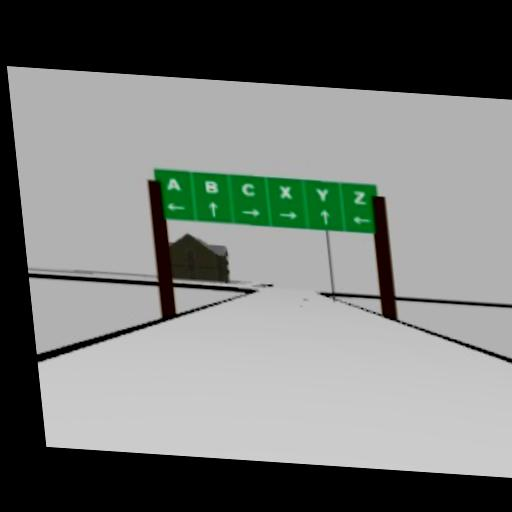A: (165, 176, 180, 189)
B: (202, 178, 217, 191)
C: (239, 181, 255, 196)
Left: (351, 214, 371, 224), (165, 200, 185, 210)
Right: (239, 206, 259, 216), (277, 209, 297, 219)
Straight: (318, 207, 330, 225), (206, 200, 218, 216)
X: (276, 183, 292, 198)
Y: (314, 186, 330, 201)
Z: (352, 188, 368, 203)
